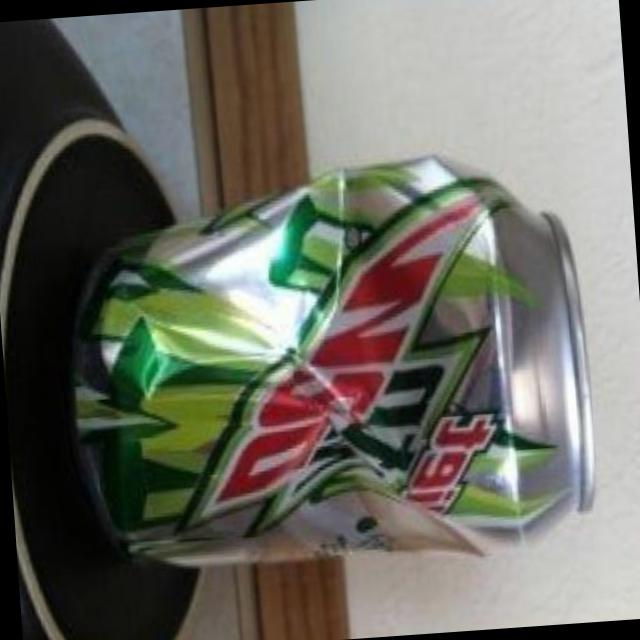metal: (77, 159, 594, 567)
